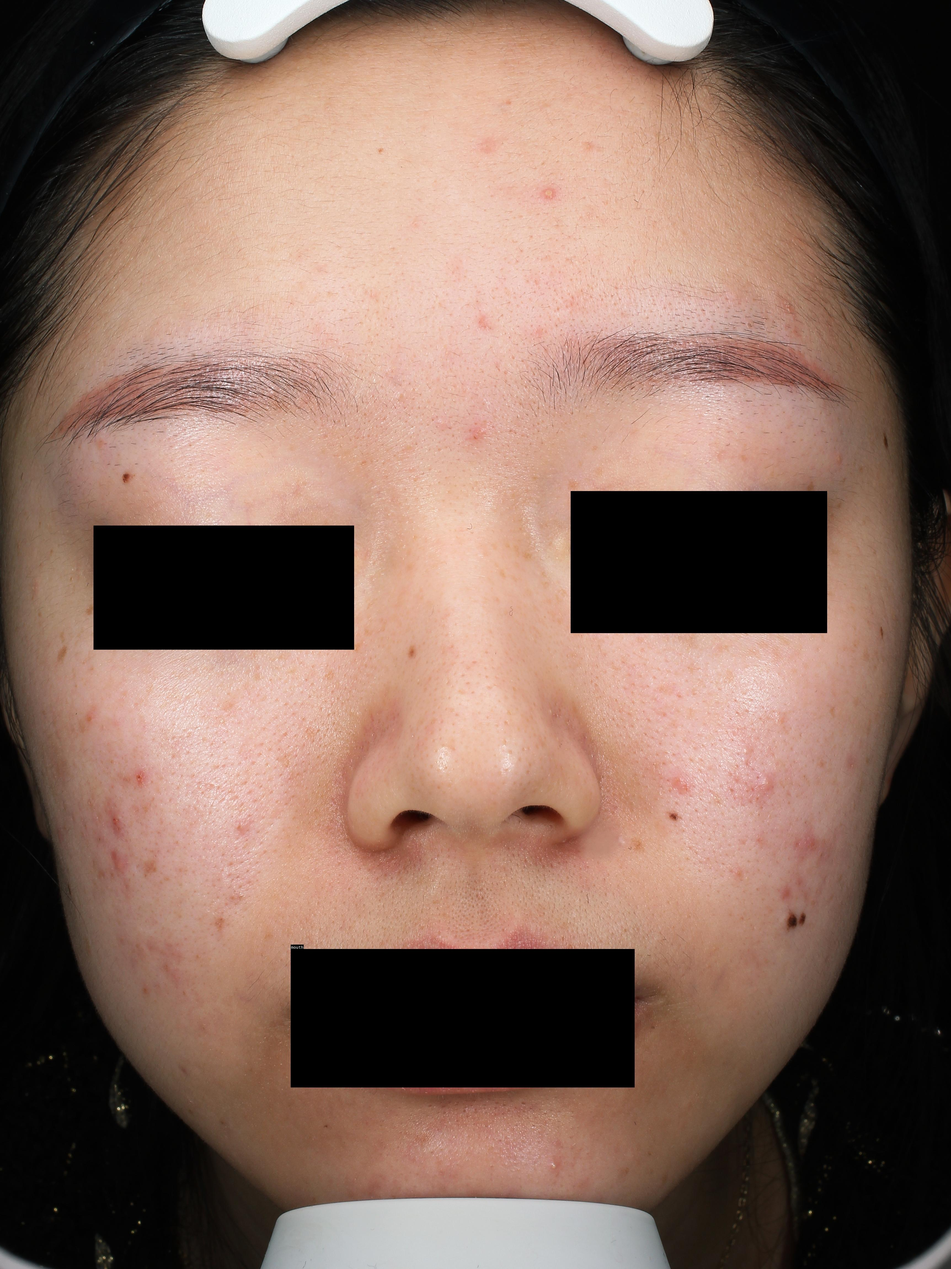atrophic_scar: (746, 759, 752, 768), (504, 100, 514, 105), (132, 703, 139, 709), (520, 1102, 525, 1105)
closed_comedo: (436, 419, 452, 431), (397, 392, 407, 401), (742, 747, 750, 755), (400, 446, 407, 452), (745, 877, 748, 880)
hypertrophic_scar: (618, 835, 627, 847)
melasma: (569, 612, 595, 638), (676, 630, 704, 651), (650, 683, 677, 697), (56, 644, 68, 664), (775, 632, 791, 647), (105, 640, 117, 658), (714, 644, 732, 655), (566, 478, 580, 492), (407, 644, 418, 661), (321, 669, 335, 682), (754, 641, 770, 652), (84, 604, 97, 617), (806, 481, 815, 499), (861, 646, 871, 662), (725, 670, 736, 684), (89, 626, 101, 638), (594, 466, 606, 478), (520, 550, 534, 560), (352, 641, 363, 653), (557, 587, 569, 597), (540, 597, 553, 606), (496, 569, 506, 580), (509, 574, 519, 584), (829, 705, 836, 718), (514, 544, 520, 559), (540, 581, 550, 590), (554, 594, 562, 605), (59, 629, 65, 643), (822, 591, 836, 597), (503, 542, 511, 551), (556, 617, 565, 625), (362, 628, 370, 637), (541, 570, 548, 578), (880, 626, 884, 639), (837, 500, 842, 509), (591, 445, 598, 451), (49, 550, 54, 558), (68, 576, 74, 582), (38, 521, 42, 526)
nevus: (786, 909, 798, 933), (665, 810, 682, 821), (121, 471, 135, 484), (797, 911, 806, 927), (882, 432, 890, 450)
open_comedo: (108, 759, 115, 765), (650, 1025, 656, 1031), (323, 1124, 328, 1129), (493, 1105, 498, 1110), (325, 105, 330, 110), (462, 1109, 466, 1114), (98, 837, 101, 842)
papule: (132, 769, 149, 788), (470, 424, 487, 439), (801, 833, 816, 849), (759, 776, 774, 791), (110, 815, 123, 830), (779, 885, 791, 900), (114, 858, 125, 871), (673, 777, 686, 787), (481, 141, 493, 151), (835, 454, 844, 466), (734, 869, 743, 877), (234, 823, 244, 830)
pustule: (542, 187, 554, 199), (550, 1161, 558, 1171)
